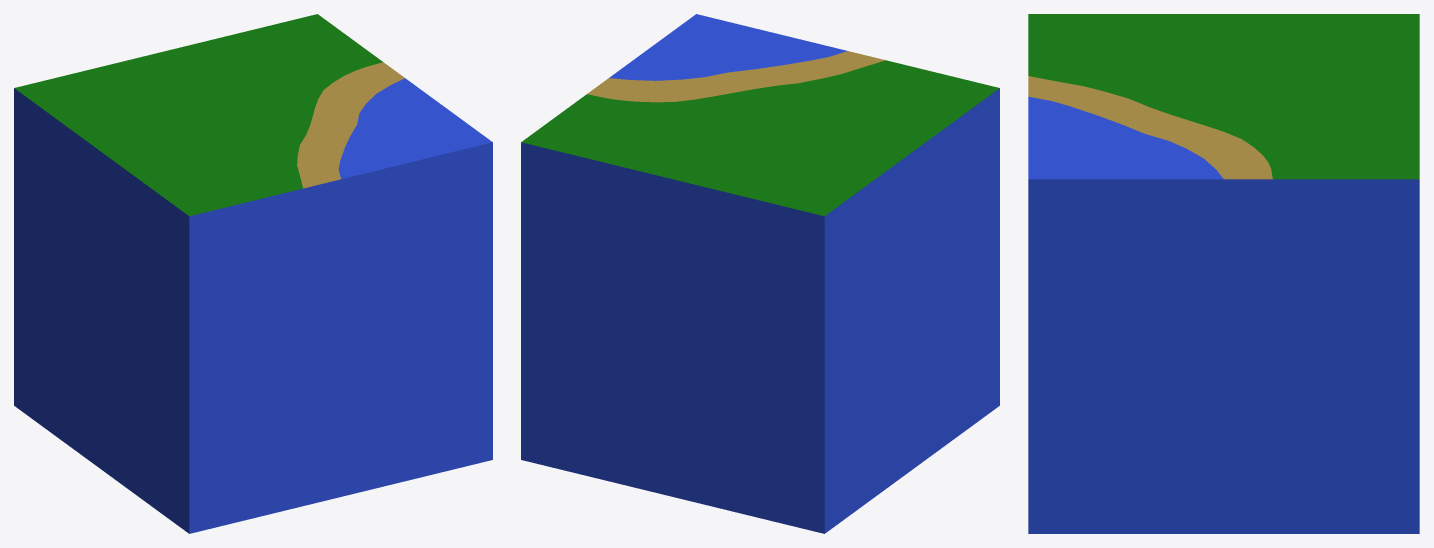
File: CoastWedge1.fbx
3 views of the same model, side by side, from view 1: azimuth 30°, elevation 25°; view 2: azimuth 150°, elevation 25°; view 3: azimuth 270°, elevation 25° (orthographic). The views are drawn at different scales.
Visible parts, largest first — view 1: Cube.015; view 2: Cube.015; view 3: Cube.015.
Boxes of the visible parts, left/top/right/bottom form: Cube.015: left=14, top=14, right=492, bottom=533; Cube.015: left=521, top=14, right=999, bottom=533; Cube.015: left=1028, top=14, right=1419, bottom=533.
Bounding box in the file's own units: 100 × 100 × 100.
